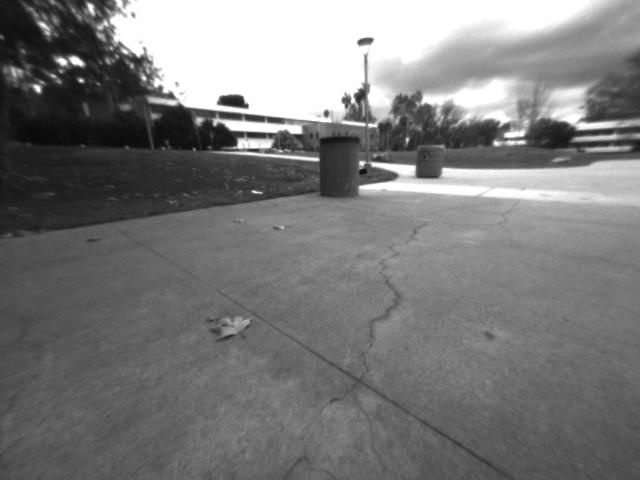trashcan: (320, 137, 365, 202), (416, 146, 440, 182)
